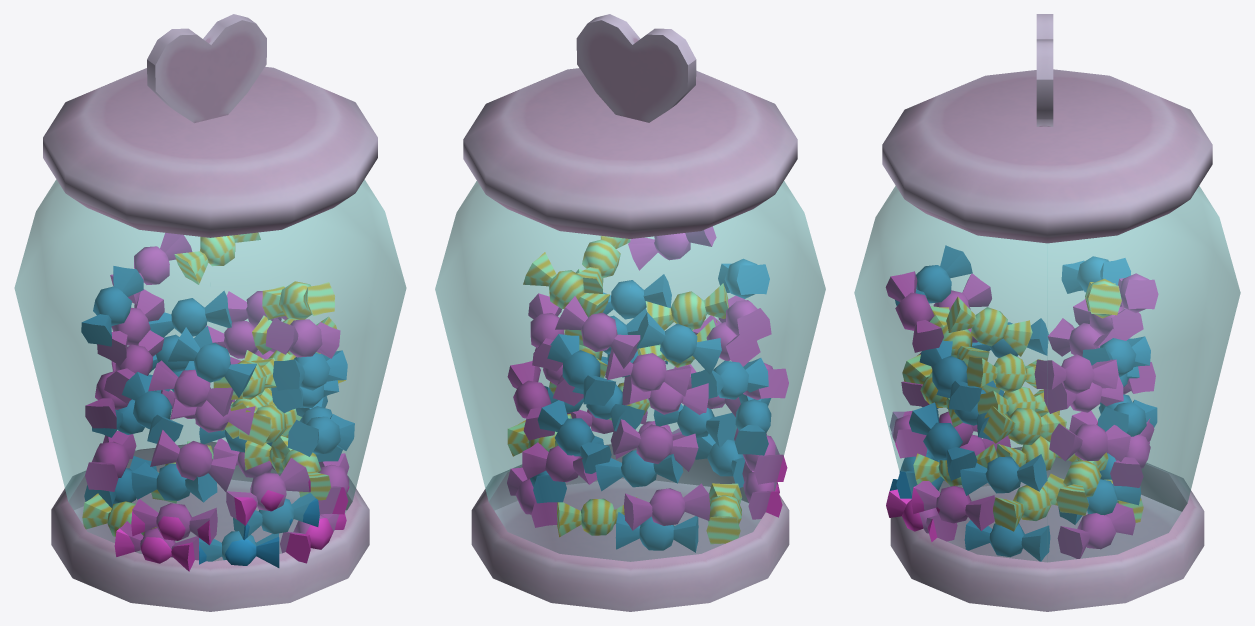
Rendered from Sweet_Jar4.fbx.
The picture shows the model from 3 angles, left to right: view 1: azimuth 30°, elevation 25°; view 2: azimuth 150°, elevation 25°; view 3: azimuth 270°, elevation 25°; orthographic projection.
Visible parts, largest first — view 1: heart_topper_low7; view 2: heart_topper_low7; view 3: heart_topper_low7.
Part boxes in pixels (x1,y1,x2,y2): heart_topper_low7: (14, 14, 406, 611); heart_topper_low7: (435, 14, 825, 611); heart_topper_low7: (854, 14, 1240, 611).
Size of the model in its own units: 29.23 by 42.94 by 29.23.
